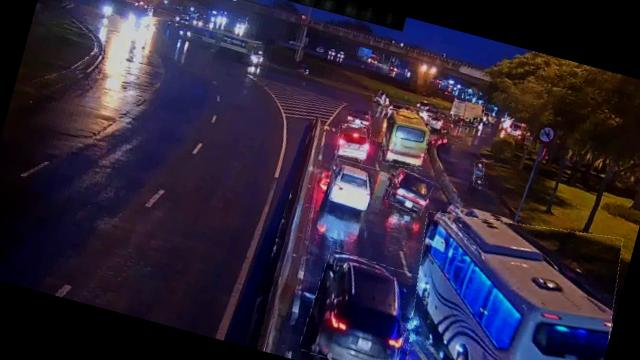Bike: (470, 160, 488, 188)
Bus: (386, 194, 632, 360), (376, 105, 436, 171)
Car: (299, 248, 422, 360), (323, 159, 379, 217), (386, 168, 434, 215), (333, 122, 373, 162)
Truck: (449, 98, 487, 130)
